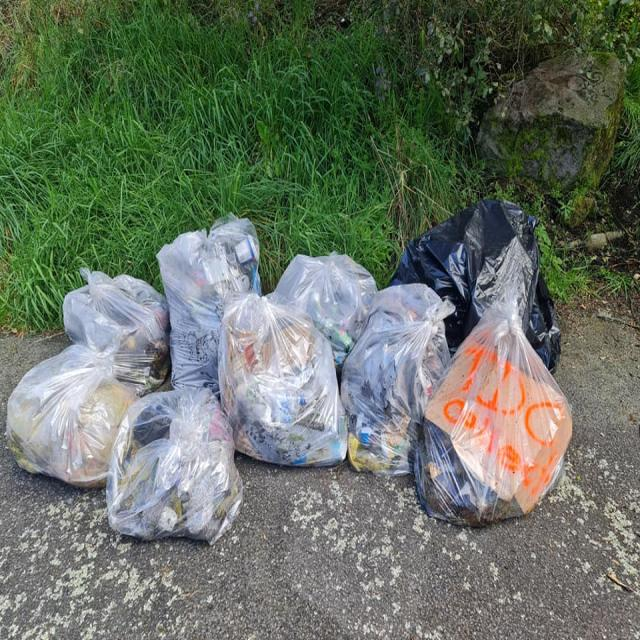dumping: (3, 170, 623, 590)
